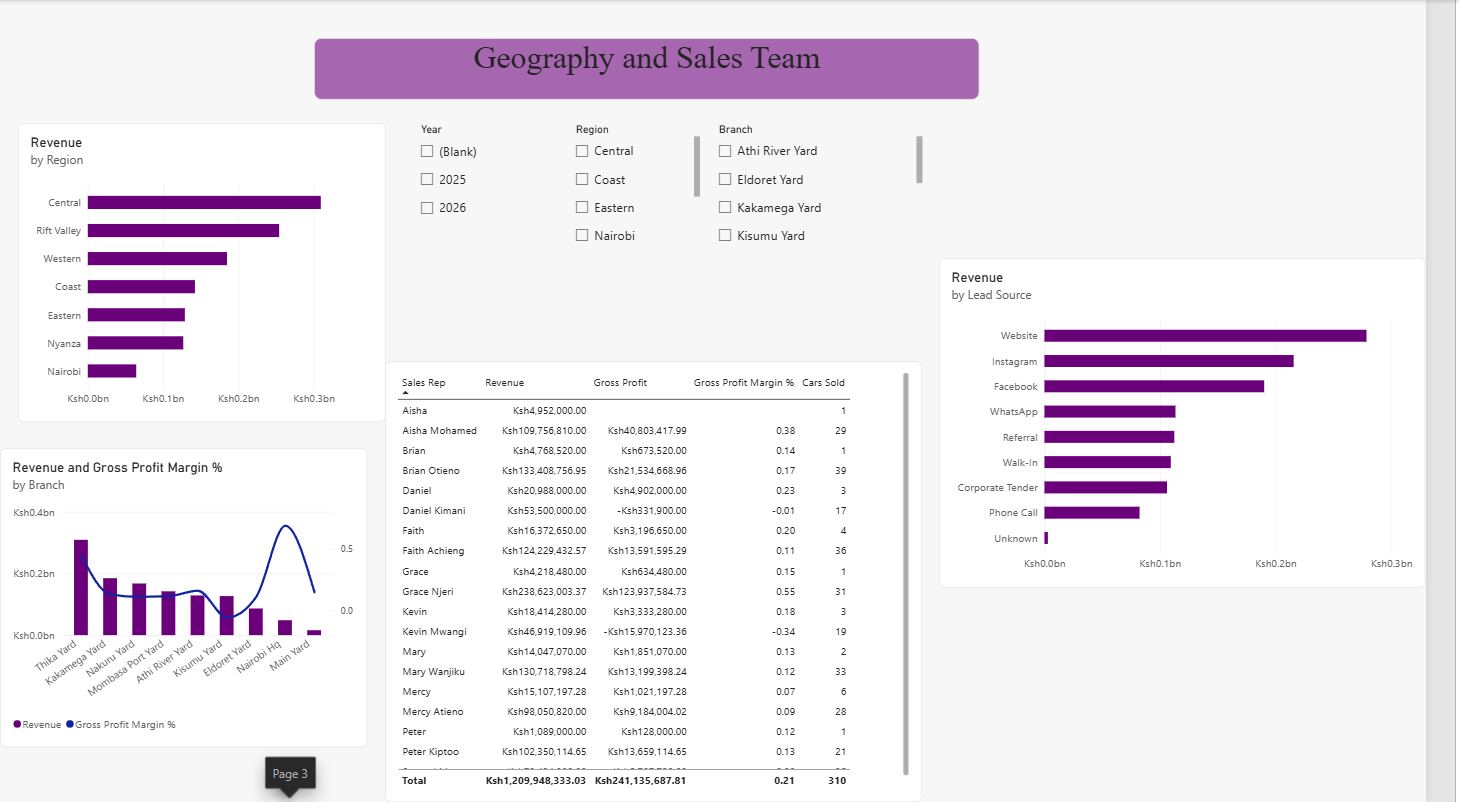

The page's visual inventory and layout, read from the dashboard file:
{"tool":"powerbi","page":{"name":"Page 3","canvas":[1920,1080],"ordinal":2},"visuals":[{"type":"clusteredBarChart","fields":{"Category":["Region_dmTable.Region","Region_dmTable.County"],"Y":["Jcars_Measures.Revenue"]},"box":[23.9,165.6,495.1,403.1],"z":0},{"type":"lineClusteredColumnComboChart","fields":{"Category":["Branch_dmTable.Branch"],"Y":["Jcars_Measures.Revenue"],"Y2":["Jcars_Measures.Gross Profit Margin %"]},"box":[0,603.7,495,403],"z":1000},{"type":"tableEx","fields":{"Values":["SalesPerson_dmTable.Sales Rep","Jcars_Measures.Revenue","Jcars_Measures.Gross Profit","Jcars_Measures.Gross Profit Margin %","Jcars_Measures.Cars Sold"]},"box":[519,485.9,723.3,594.5],"z":2000},{"type":"clusteredBarChart","fields":{"Category":["Sales_ftTable.Lead Source"],"Y":["Jcars_Measures.Revenue"]},"box":[1264.4,347.9,655.2,443.6],"z":3000},{"type":"textbox","box":[423.3,51.5,896.3,82.8],"z":4000},{"type":"slicer","fields":{"Values":["Date_dmTable.Year"]},"box":[559.5,165.6,208,165.6],"z":5000},{"type":"slicer","fields":{"Values":["Region_dmTable.Region"]},"box":[767.5,165.6,174.8,165.6],"z":6000},{"type":"slicer","fields":{"Values":["Branch_dmTable.Branch"]},"box":[960.7,165.6,281.6,165.6],"z":7000}]}

Visuals, with their boxes on the page's 1920x1080 design canvas (x1, y1, x2, y2). These are canvas units, not pixel positions in the 1459x802 screenshot, which may show the page scaled, cropped or inside an application window:
clusteredBarChart - Region_dmTable.Region x Region_dmTable.County: bbox(24, 166, 519, 569)
lineClusteredColumnComboChart - Branch_dmTable.Branch x Jcars_Measures.Revenue: bbox(0, 604, 495, 1007)
tableEx - SalesPerson_dmTable.Sales Rep x Jcars_Measures.Revenue: bbox(519, 486, 1242, 1080)
clusteredBarChart - Sales_ftTable.Lead Source x Jcars_Measures.Revenue: bbox(1264, 348, 1920, 792)
textbox: bbox(423, 52, 1320, 134)
slicer - Date_dmTable.Year: bbox(560, 166, 768, 331)
slicer - Region_dmTable.Region: bbox(768, 166, 942, 331)
slicer - Branch_dmTable.Branch: bbox(961, 166, 1242, 331)
